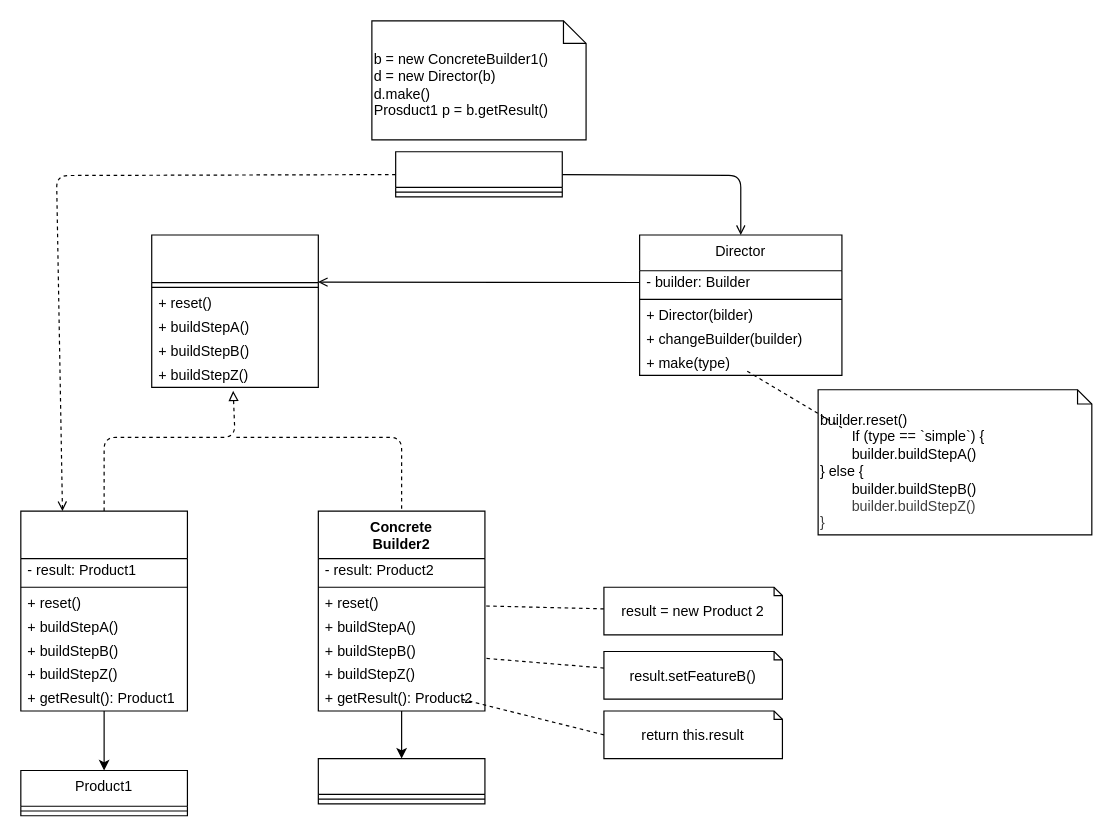
Some shapes in this 1113 by 837 pixel diagram are drawn without their labels. Each missing label, with the box of its shape:
<<interface>> Builder: (151, 234, 318, 387)
Client: (394, 151, 562, 197)
Concrete Builder1: (20, 510, 187, 711)
Product2: (317, 757, 485, 804)
